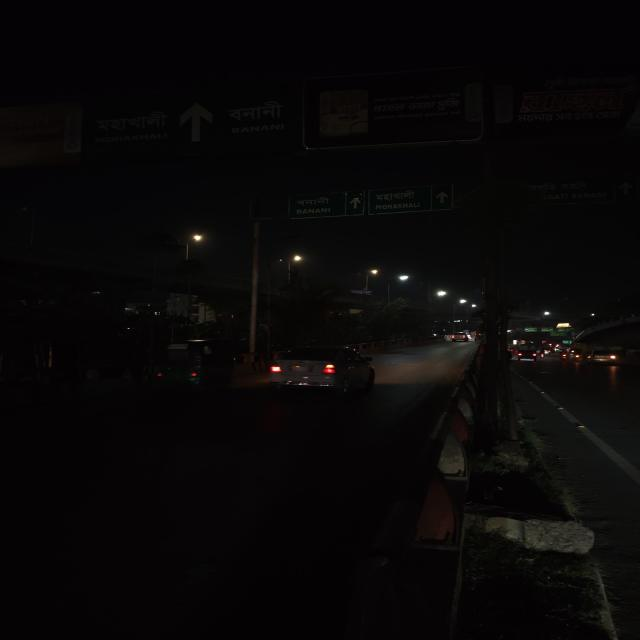car: (266, 342, 382, 400), (586, 348, 621, 366), (448, 332, 469, 343)
cng: (149, 339, 218, 392)
pickup_van: (515, 341, 539, 362)
